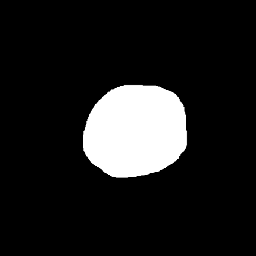mass: (92, 89, 179, 167)
